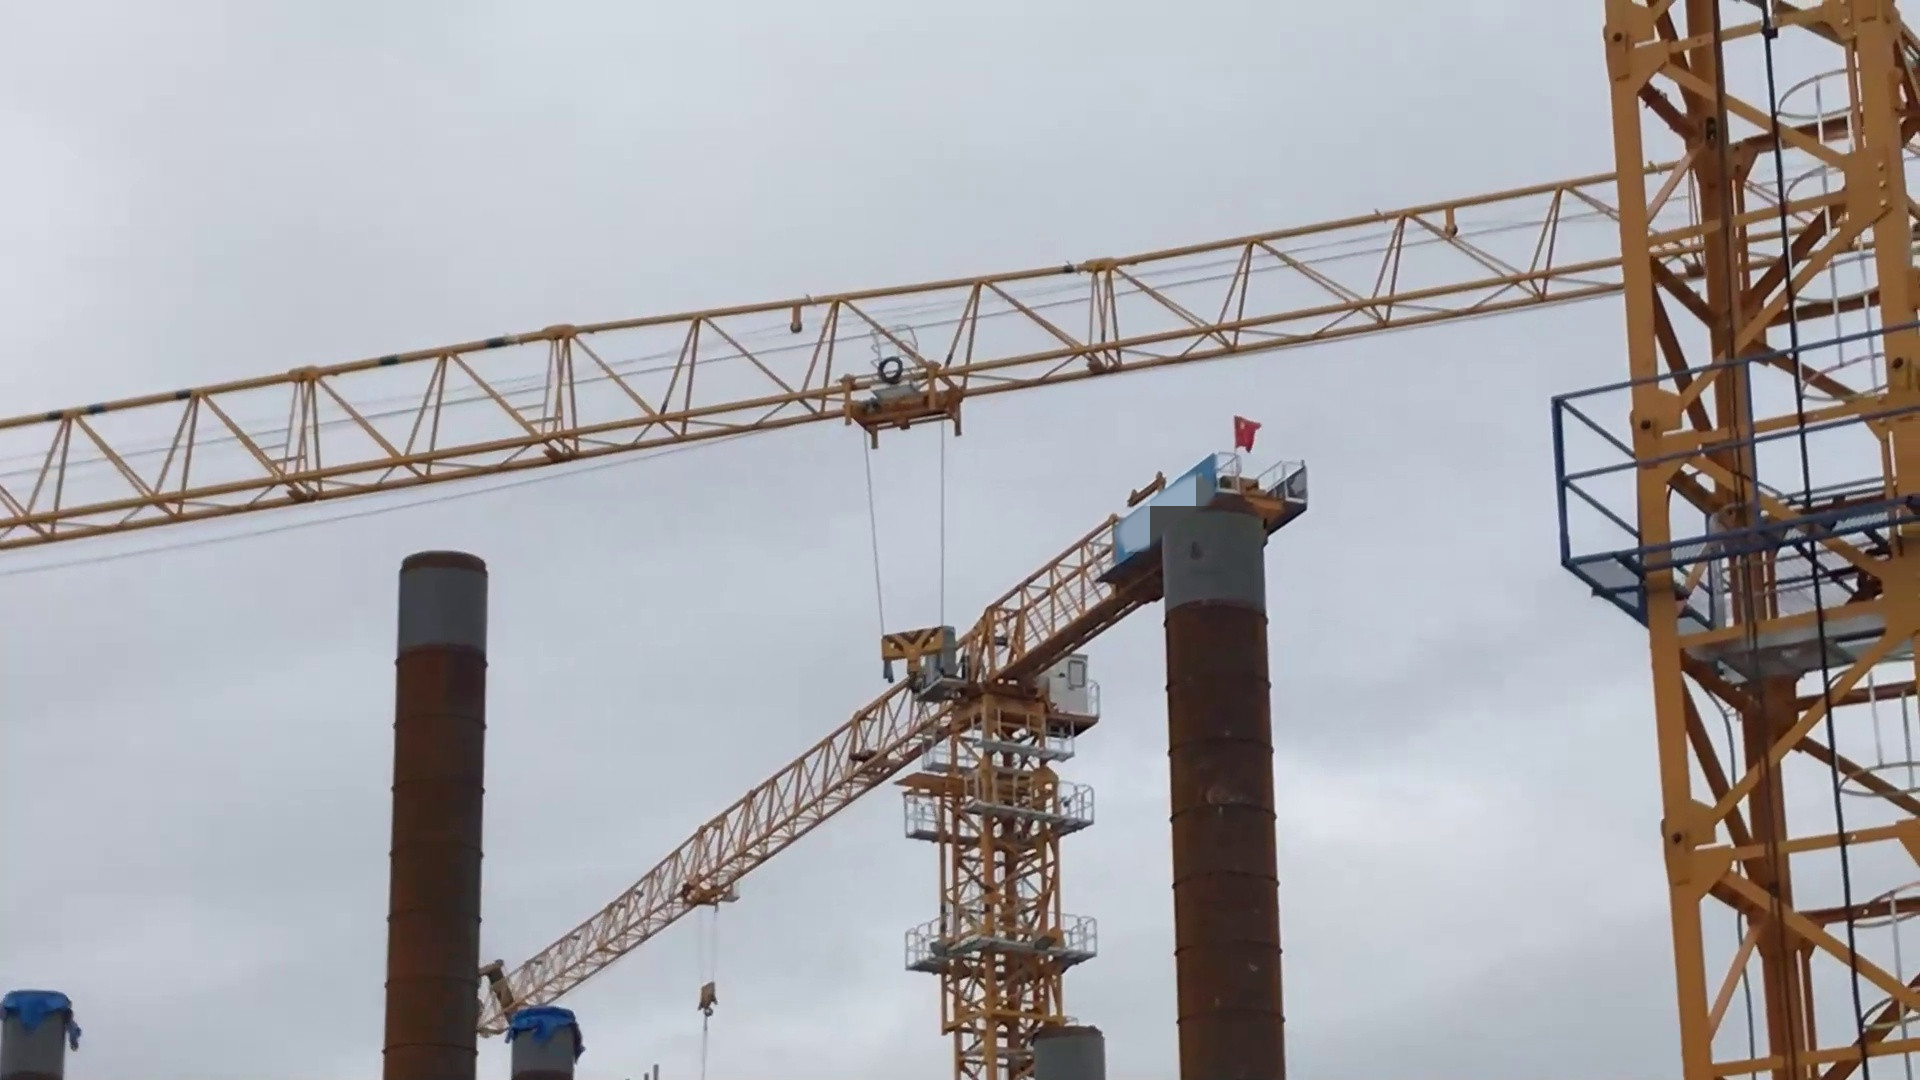hook: (856, 616, 963, 679)
